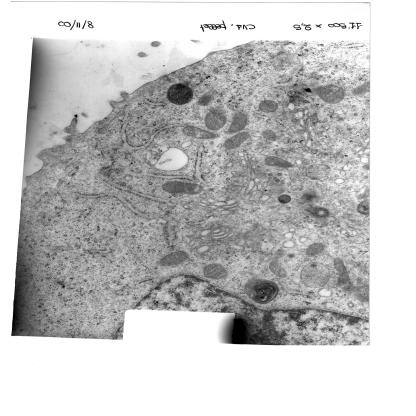mitochondria: (297, 262, 332, 288), (316, 82, 350, 107), (180, 126, 219, 143), (201, 109, 229, 130), (161, 180, 202, 194), (221, 132, 251, 150), (156, 251, 194, 264), (262, 153, 294, 168), (201, 262, 229, 279), (228, 110, 247, 134), (266, 262, 290, 280), (304, 241, 326, 257), (258, 97, 277, 115), (197, 93, 219, 108), (260, 130, 279, 142)
